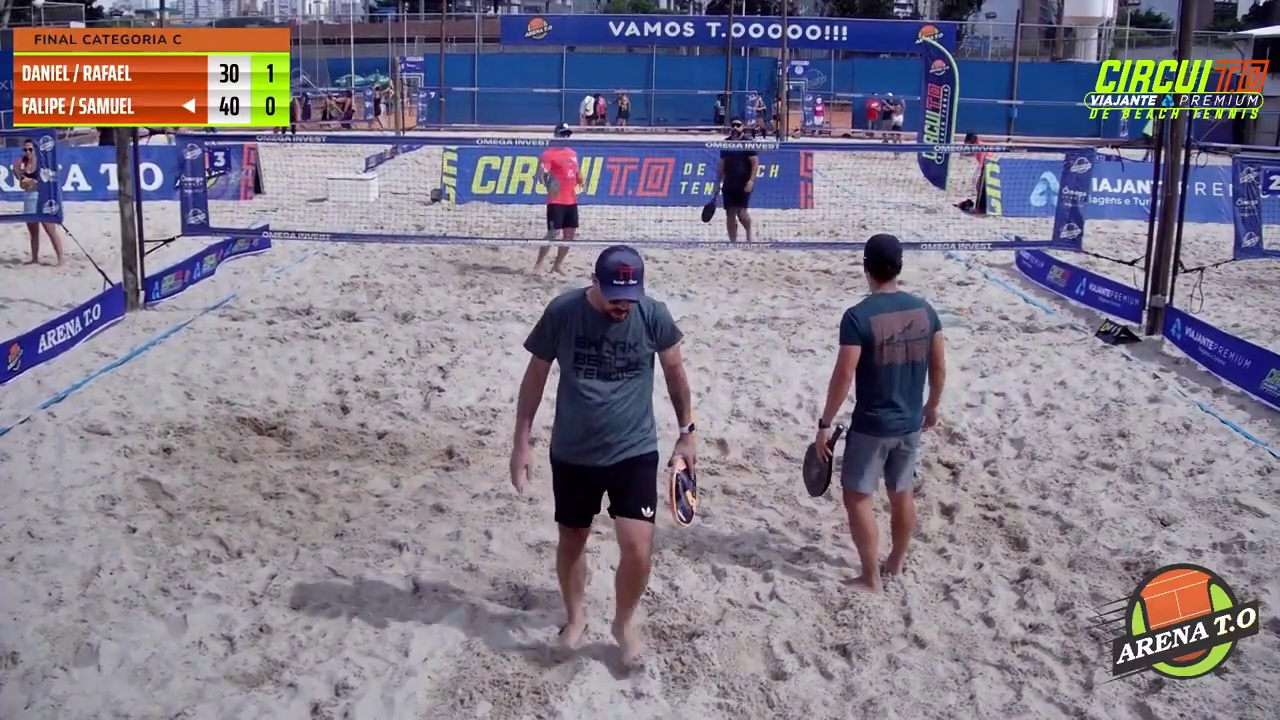court_line: (547, 0, 693, 343)
